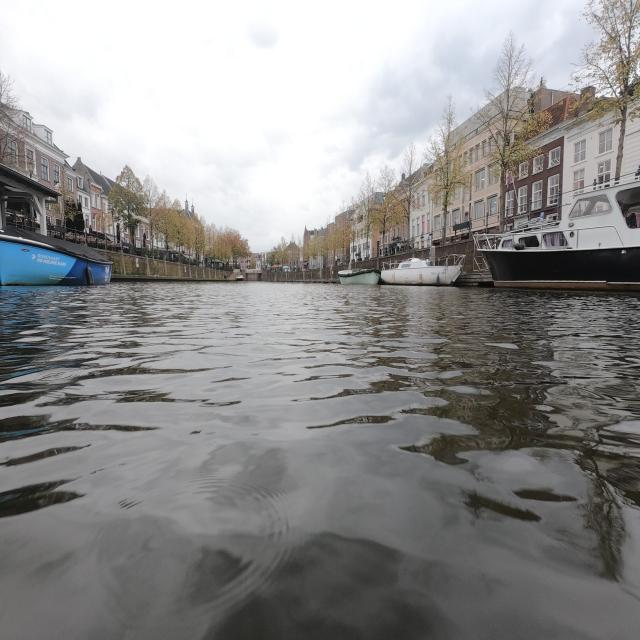boat: (474, 166, 640, 290), (2, 238, 114, 286), (382, 258, 464, 286), (338, 269, 381, 285)
sky: (14, 4, 590, 250)
tree: (476, 33, 548, 230), (576, 4, 638, 92), (425, 96, 469, 220)
water: (12, 290, 634, 634)
